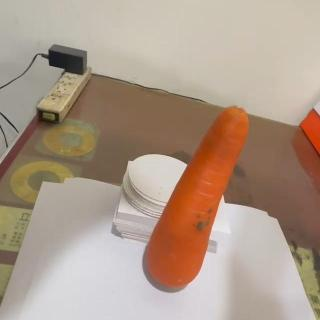carrot: (141, 103, 249, 289)
